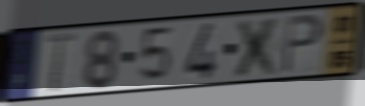4: (183, 19, 219, 83)
5: (138, 24, 174, 85)
8: (83, 28, 121, 91)
P: (280, 12, 326, 76)
T: (45, 30, 78, 95)
X: (231, 14, 284, 79)
